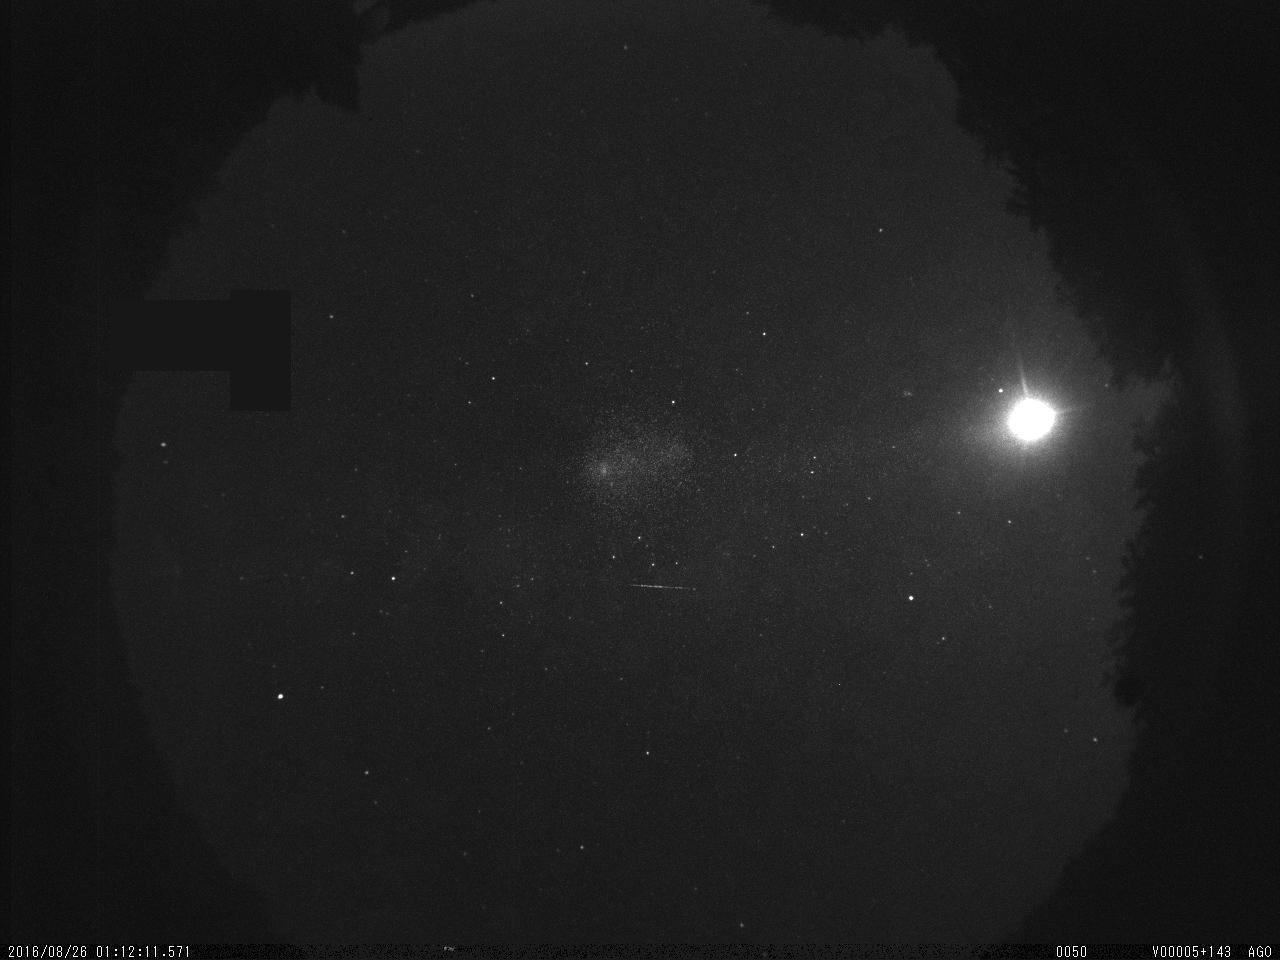meteor: (618, 567, 733, 617)
